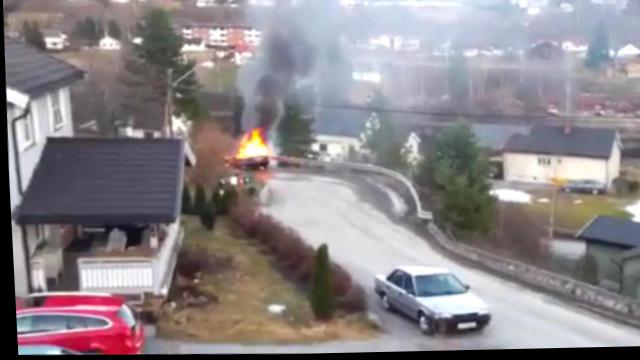fire: (237, 133, 269, 157)
